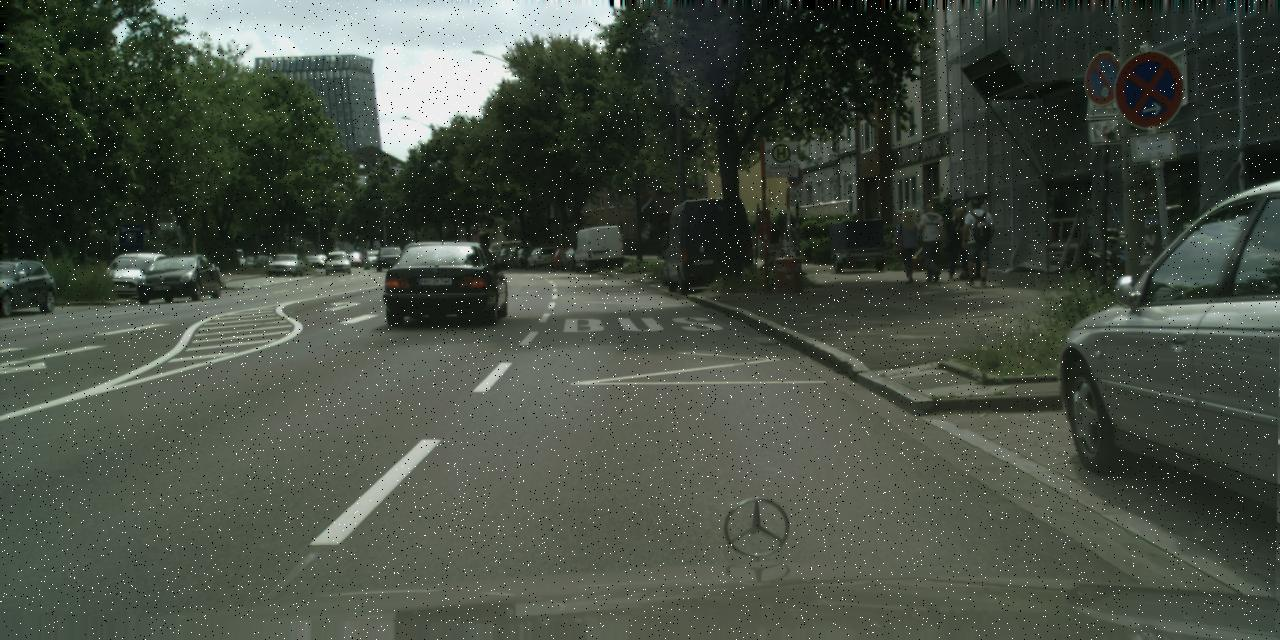ped: (959, 200, 993, 284), (916, 202, 946, 280), (894, 211, 924, 282), (944, 208, 972, 278)
